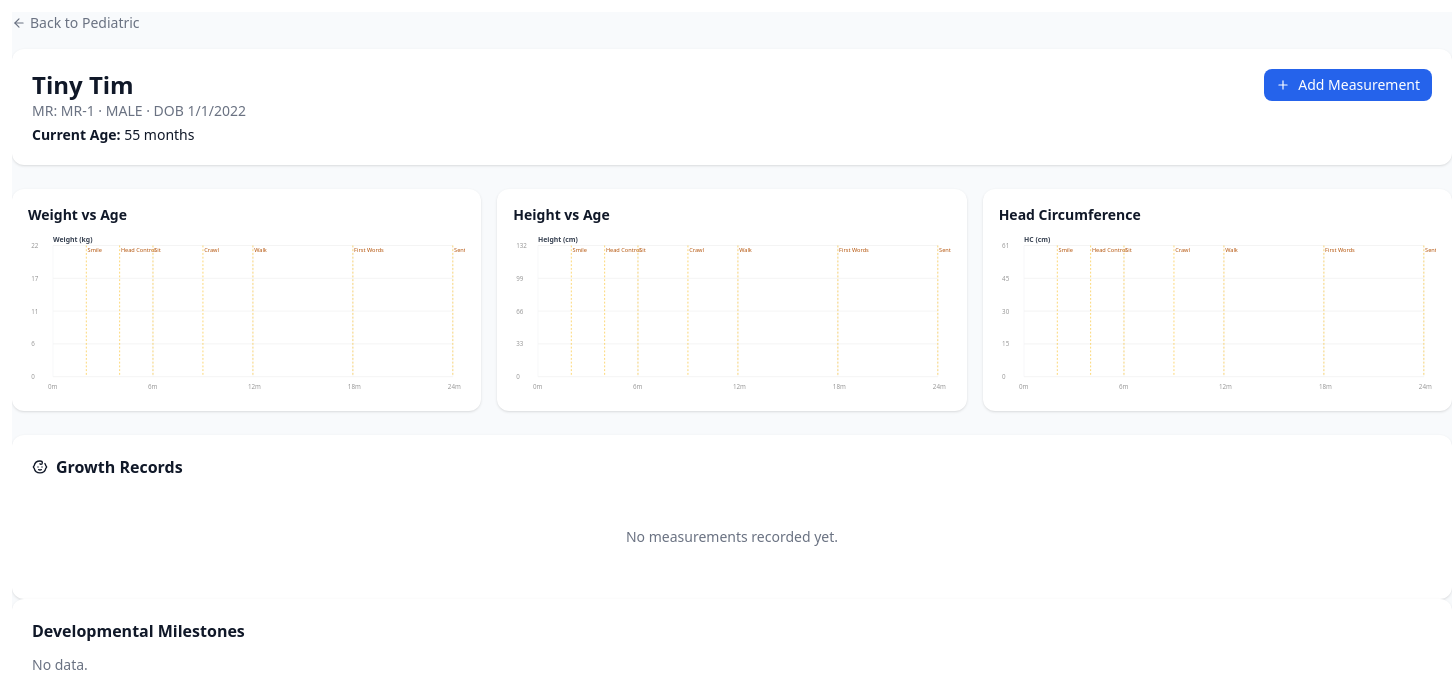
PediatricDetailPage › clicking Add Measurement opens the form
Step 1. Click the button "Add Measurement" → (1348, 85), box [1264,69,1432,101]
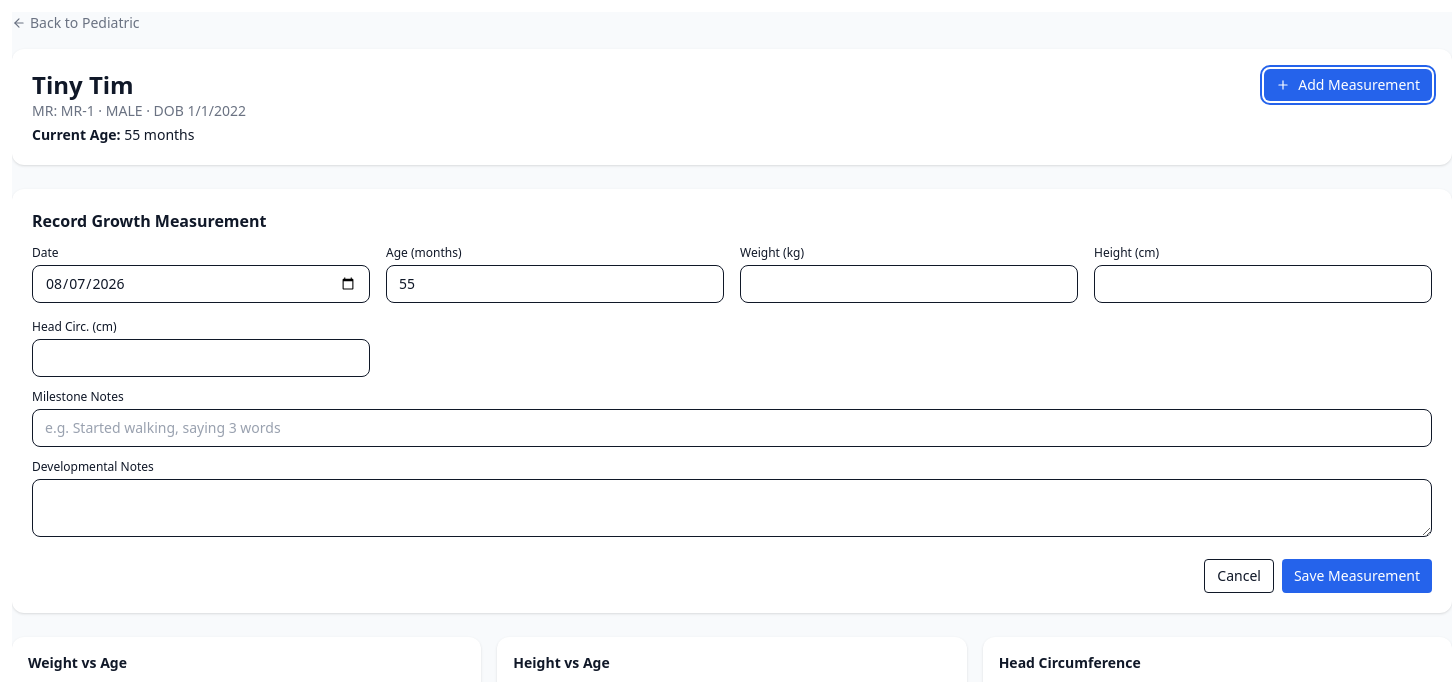
expect the heading "Record Growth Measurement" is shown: met, box [32,210,266,232]
